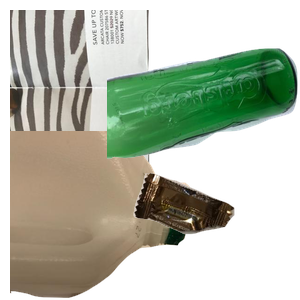glass: (107, 46, 300, 197)
paper: (10, 10, 250, 190)
plastic: (10, 131, 196, 300)
trash: (131, 171, 300, 300)
